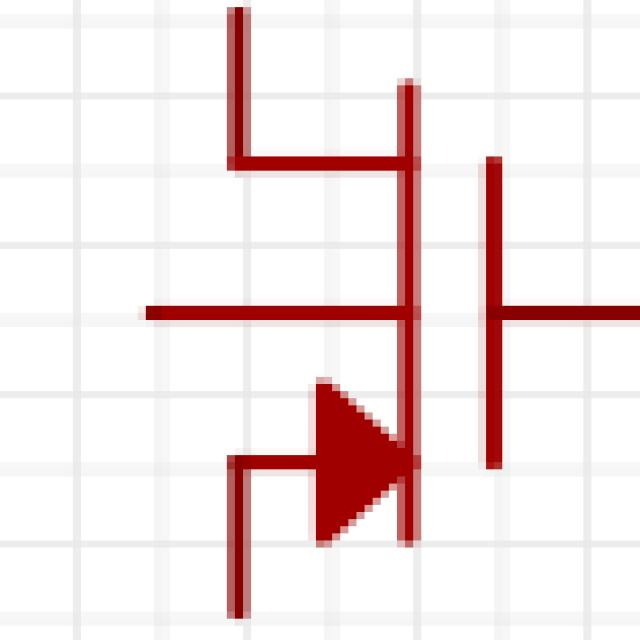pmos: (97, 7, 640, 576)
